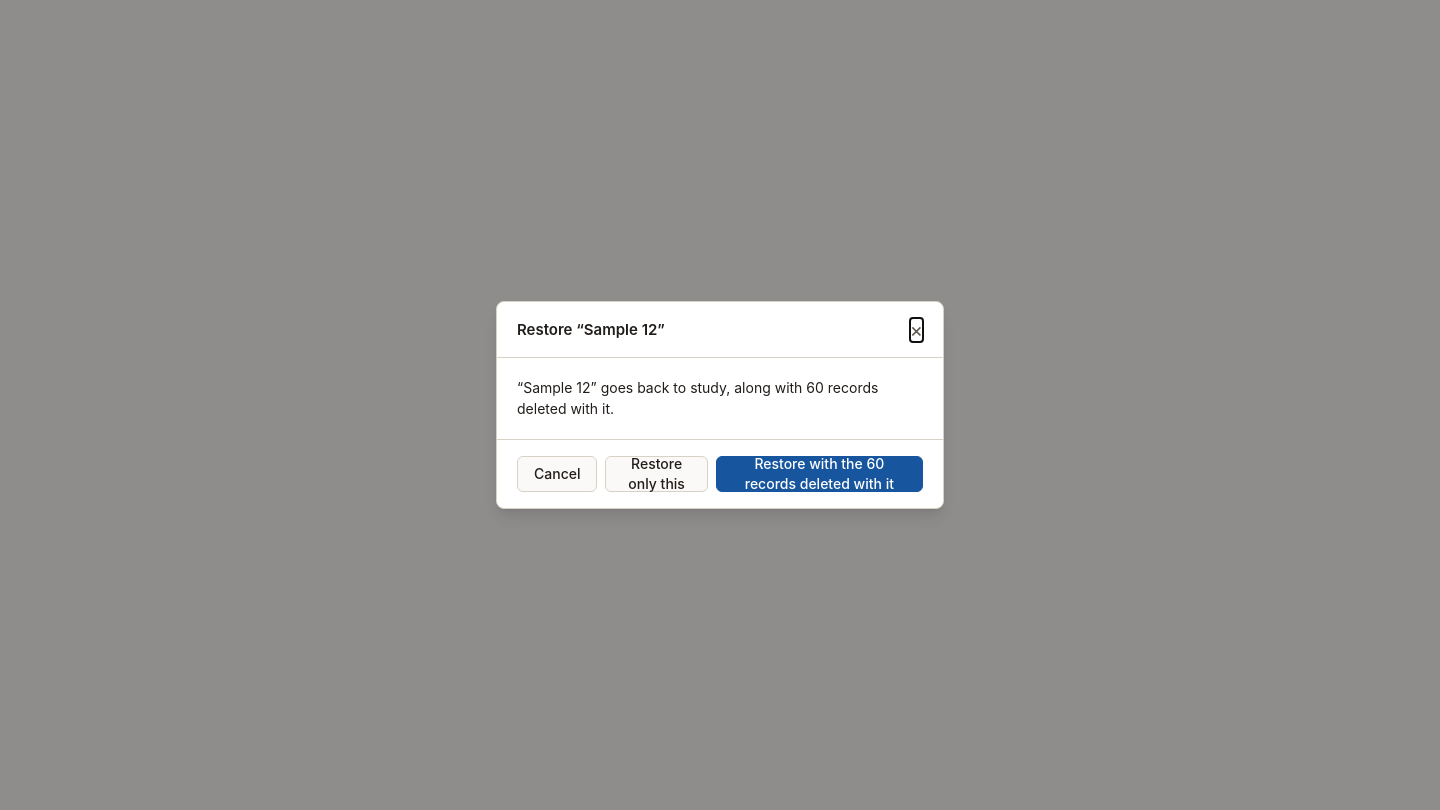
Test case: RestoreDialog › lets a record come back without the children deleted with it
The image size is (1440, 810).
Click the button "Restore only this" at (657, 474), box top-left (606, 456), bottom-right (708, 492)
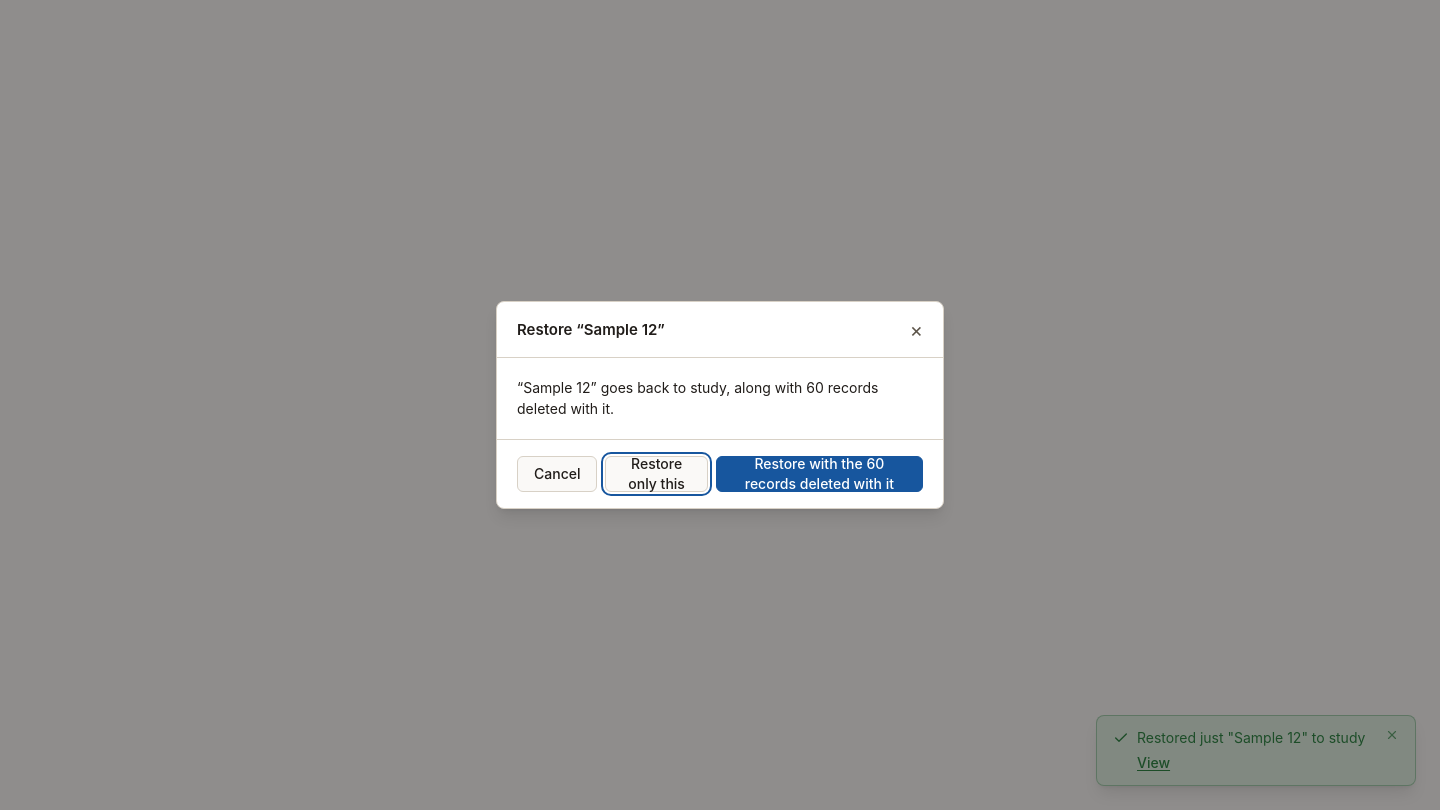
Expected: the text "Restored just \"Sample 12\" to study" is shown, top-left (1137, 728), bottom-right (1377, 749)
